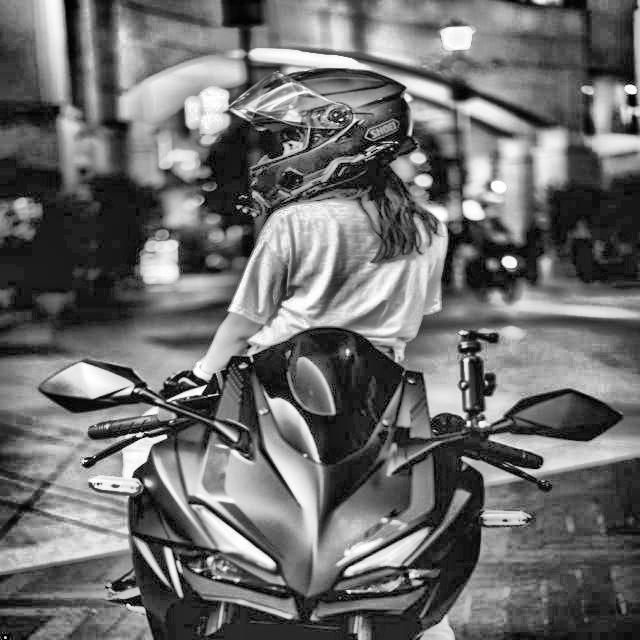Helmet: (221, 62, 424, 212)
